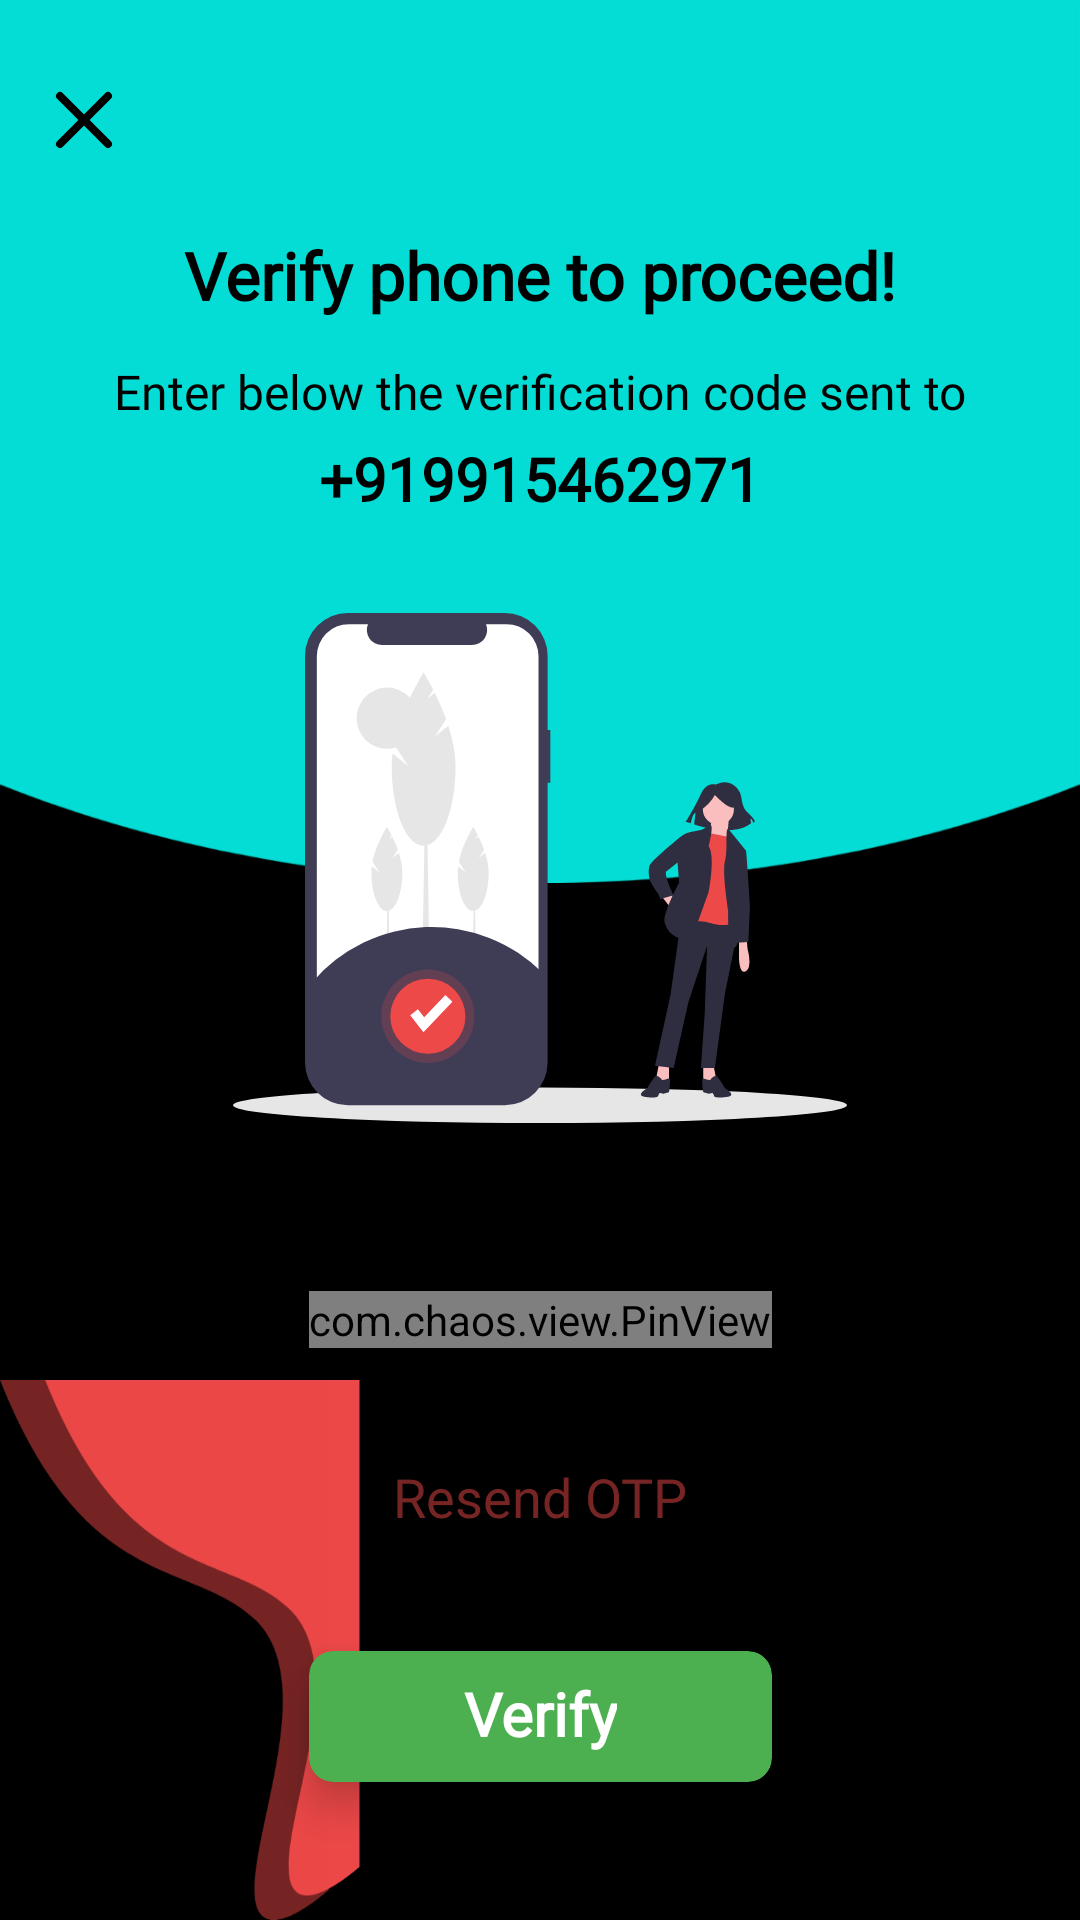

Where to tap for icons on this 1080w x 1920h app screen, as [x,y]:
cancel: [83,119]
